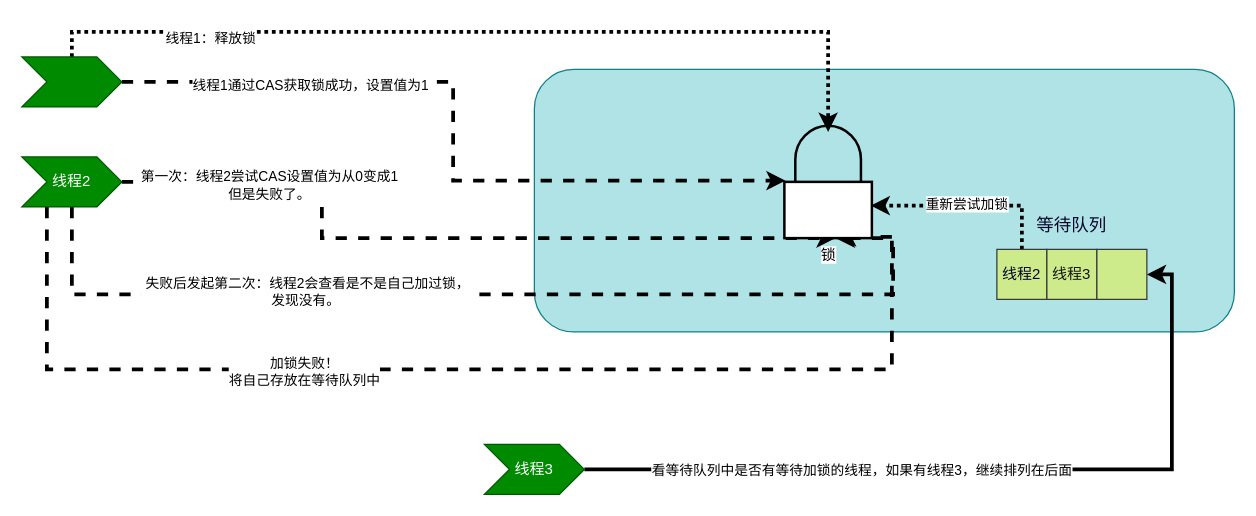
Some shapes in this 1256 by 516 pixel diagram are drawn without their labels. Here are the shapes that lost their labels. From the top down, the centre of each, then its label:
the point at 71,81: 线程1
the point at 1121,273: xxx
